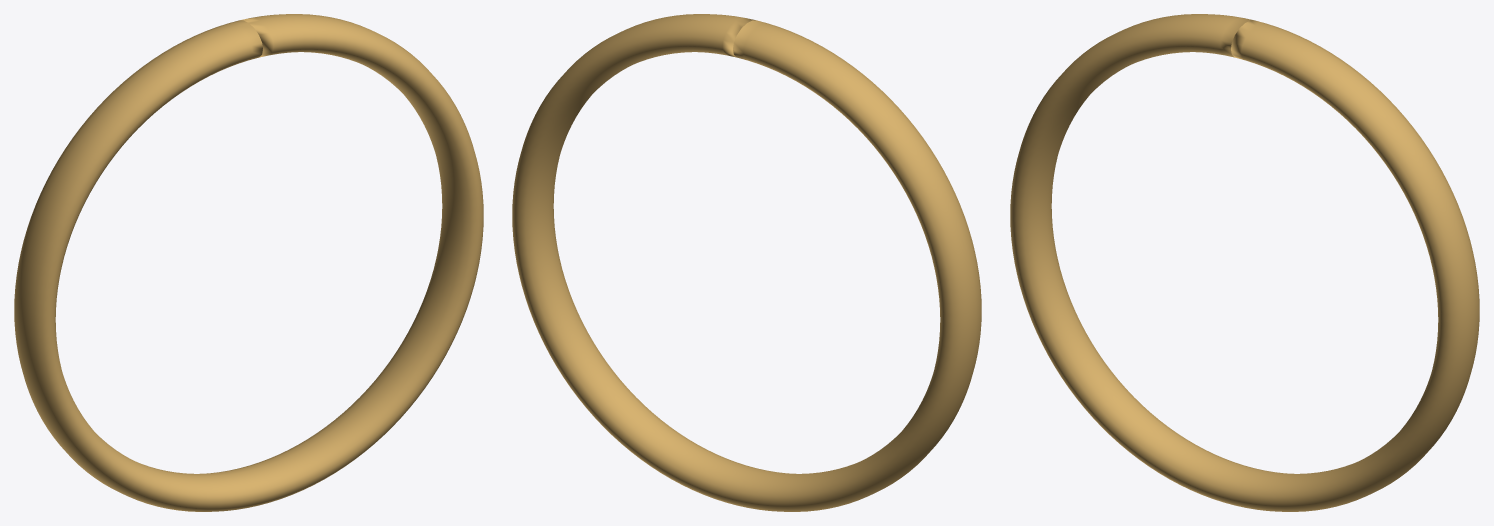
The model's file is bands-rounded.glb.
3 views of the same model, side by side, from view 1: azimuth 30°, elevation 25°; view 2: azimuth 150°, elevation 25°; view 3: azimuth 330°, elevation 25° (orthographic).
Visible parts, largest first — view 1: Band; view 2: Band; view 3: Band.
Boxes of the visible parts, <box> form: Band: <box>14,14,483,511</box>; Band: <box>512,14,981,511</box>; Band: <box>1010,14,1479,511</box>.
Size of the model in its own units: 19.6 by 19.6 by 2.1.
